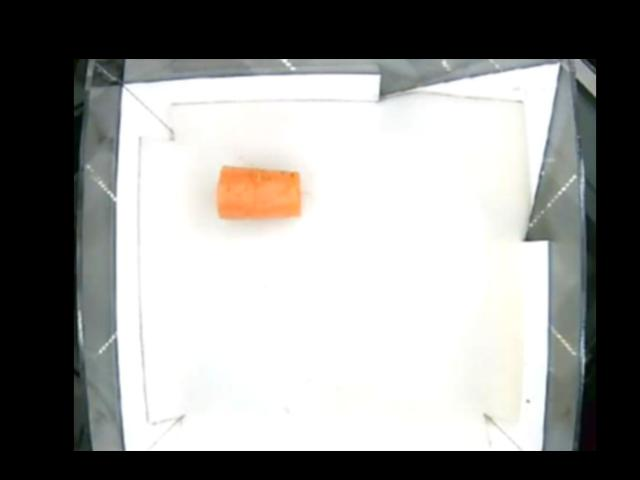Carrot: (215, 164, 302, 219)
